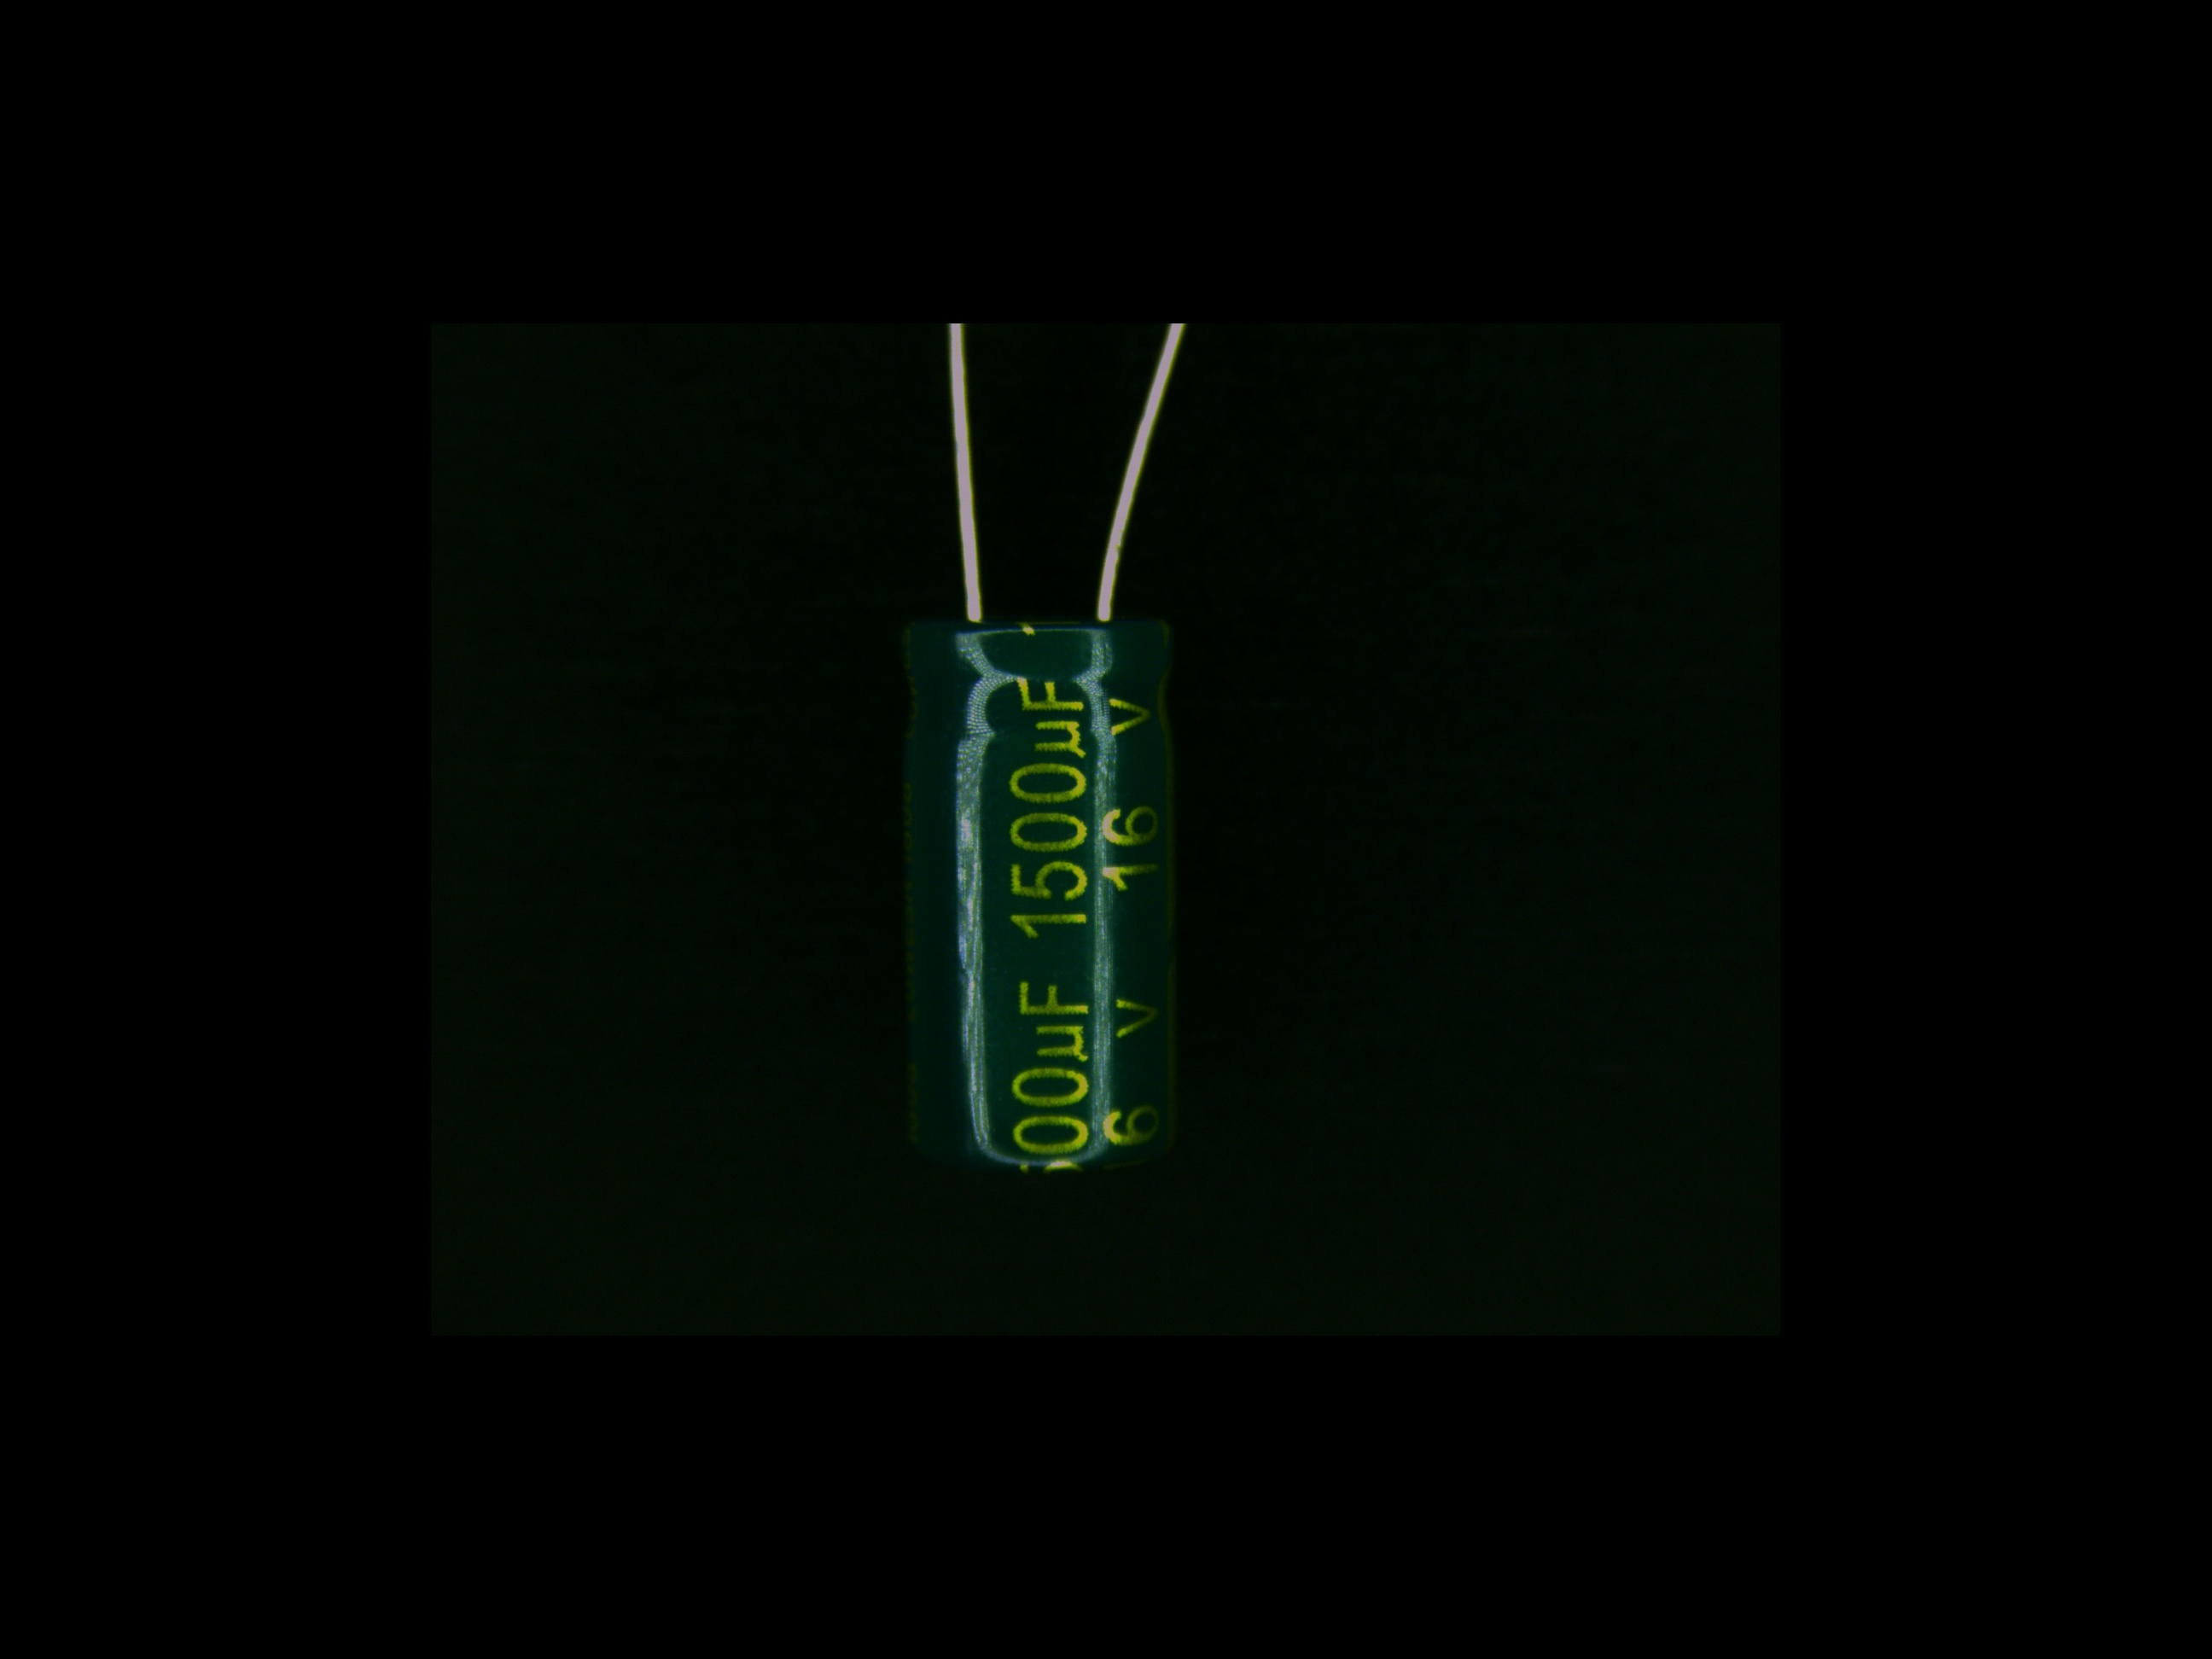c1: (894, 537, 1184, 1178)
